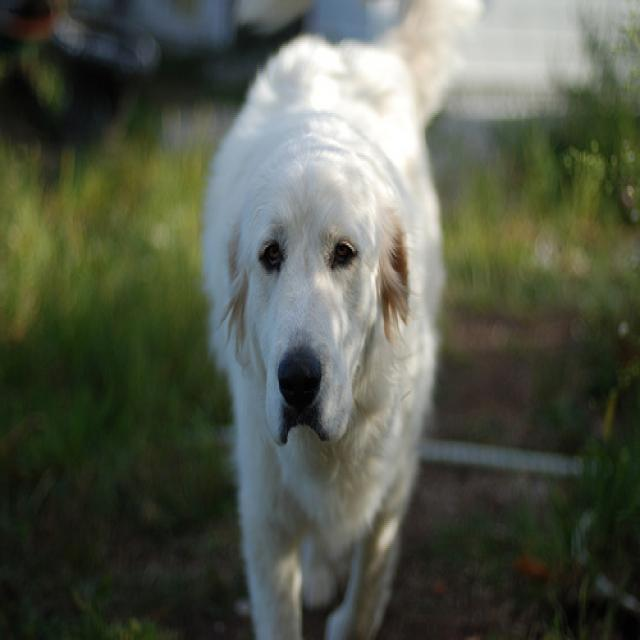dog-great_pyrenees: (187, 2, 499, 636)
